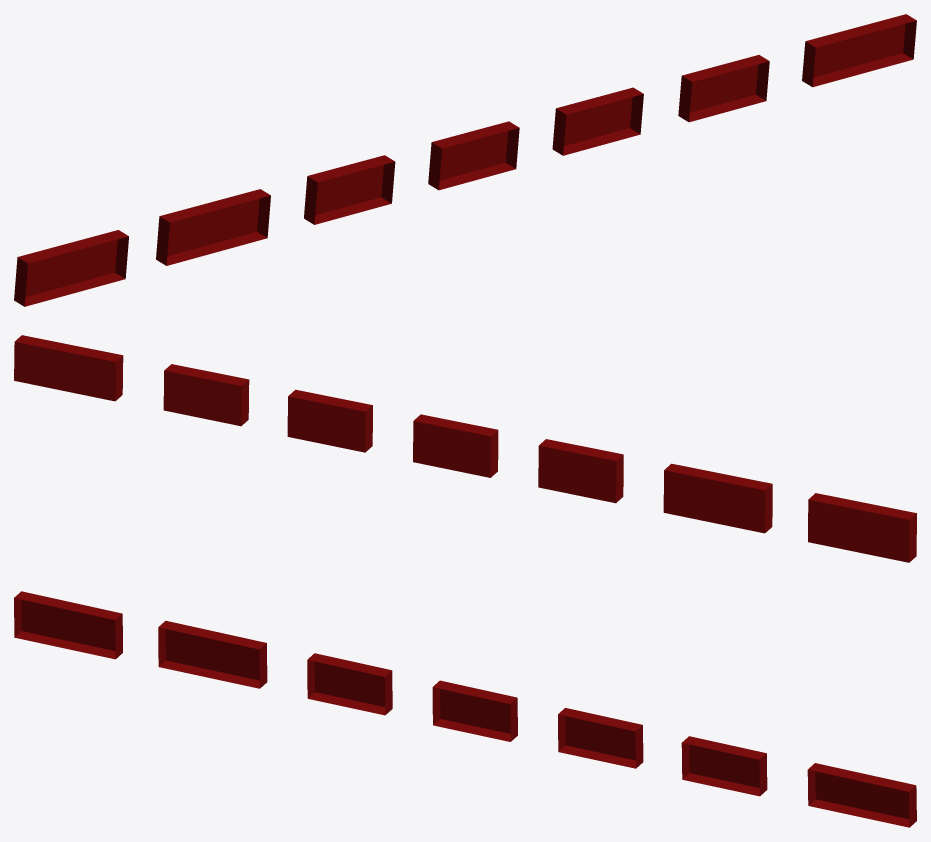
Rendered from dotted_line.fbx.
3 views of the same model, one above another, from view 1: azimuth 30°, elevation 25°; view 2: azimuth 150°, elevation 25°; view 3: azimuth 330°, elevation 25° (orthographic). The views are drawn at different scales.
Visible parts, largest first — view 1: dotted_line; view 2: dotted_line; view 3: dotted_line.
Boxes of the visible parts, x1,y1,x2,y2 form: dotted_line: (14,14,916,306); dotted_line: (14,335,916,562); dotted_line: (14,591,916,827).
Bounding box in the file's own units: 5.75 × 0.2886 × 0.5021.
